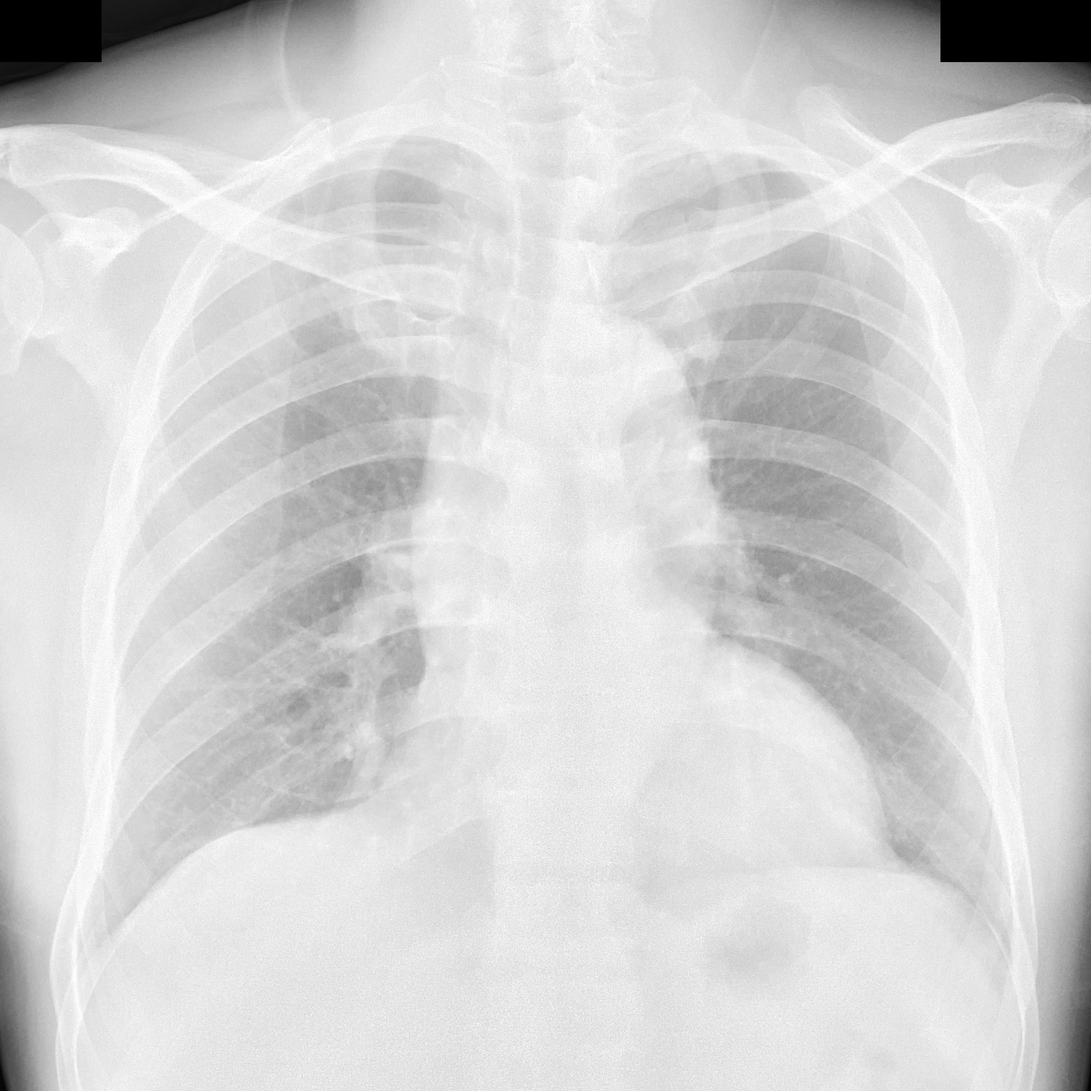Aortic enlargement: (542, 309, 718, 523)
Cardiomegaly: (371, 705, 896, 870)
Pleural thickening: (994, 922, 1031, 1017), (632, 143, 710, 180), (362, 130, 448, 147)
